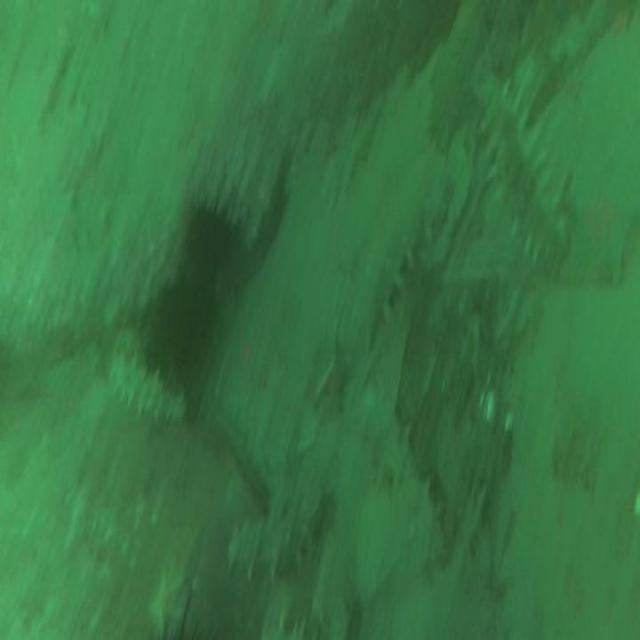echinus: (149, 283, 207, 378), (188, 204, 234, 272)
holothurian: (354, 395, 444, 564), (356, 152, 434, 343), (485, 89, 567, 262), (110, 356, 186, 424), (227, 516, 305, 574)
starfish: (573, 185, 633, 287), (149, 572, 184, 629)
